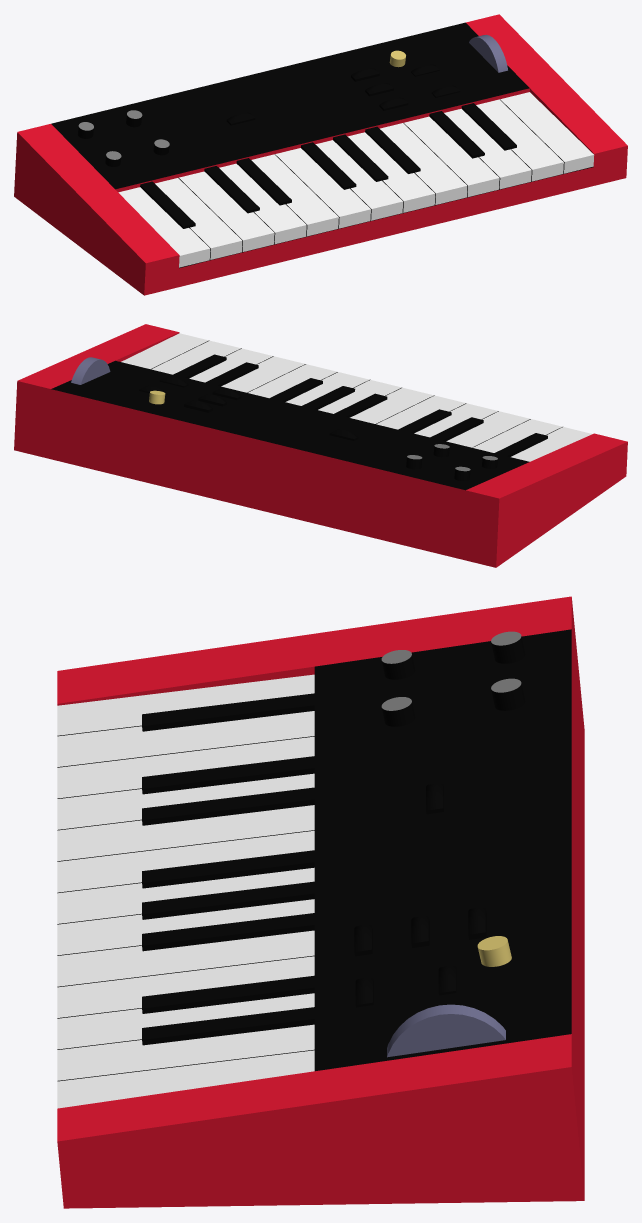
File: The Power (Regular Show).fbx
3 views of the same model, one above another, from view 1: azimuth 30°, elevation 25°; view 2: azimuth 150°, elevation 25°; view 3: azimuth 270°, elevation 25° (orthographic). The views are drawn at different scales.
Parts seen in each view (by area): view 1: Cuerpo, Rueda; view 2: Cuerpo, Rueda; view 3: Cuerpo, Rueda, Botones_izda_3, Botones_izda_2, Boton_derecho, Botones_izda_1, Botones_izda_0.
Boxes of the visible parts, x1,y1,x2,y2 form: Cuerpo: (14, 14, 627, 295); Rueda: (469, 34, 507, 72); Cuerpo: (14, 324, 627, 567); Rueda: (71, 357, 110, 384); Cuerpo: (57, 596, 584, 1208); Rueda: (387, 1004, 505, 1057); Botones_izda_3: (491, 678, 525, 710); Botones_izda_2: (491, 631, 525, 663); Boton_derecho: (477, 936, 511, 966); Botones_izda_1: (381, 697, 415, 726); Botones_izda_0: (381, 650, 415, 679).
Size of the model in its own units: 1500 by 235 by 710.
